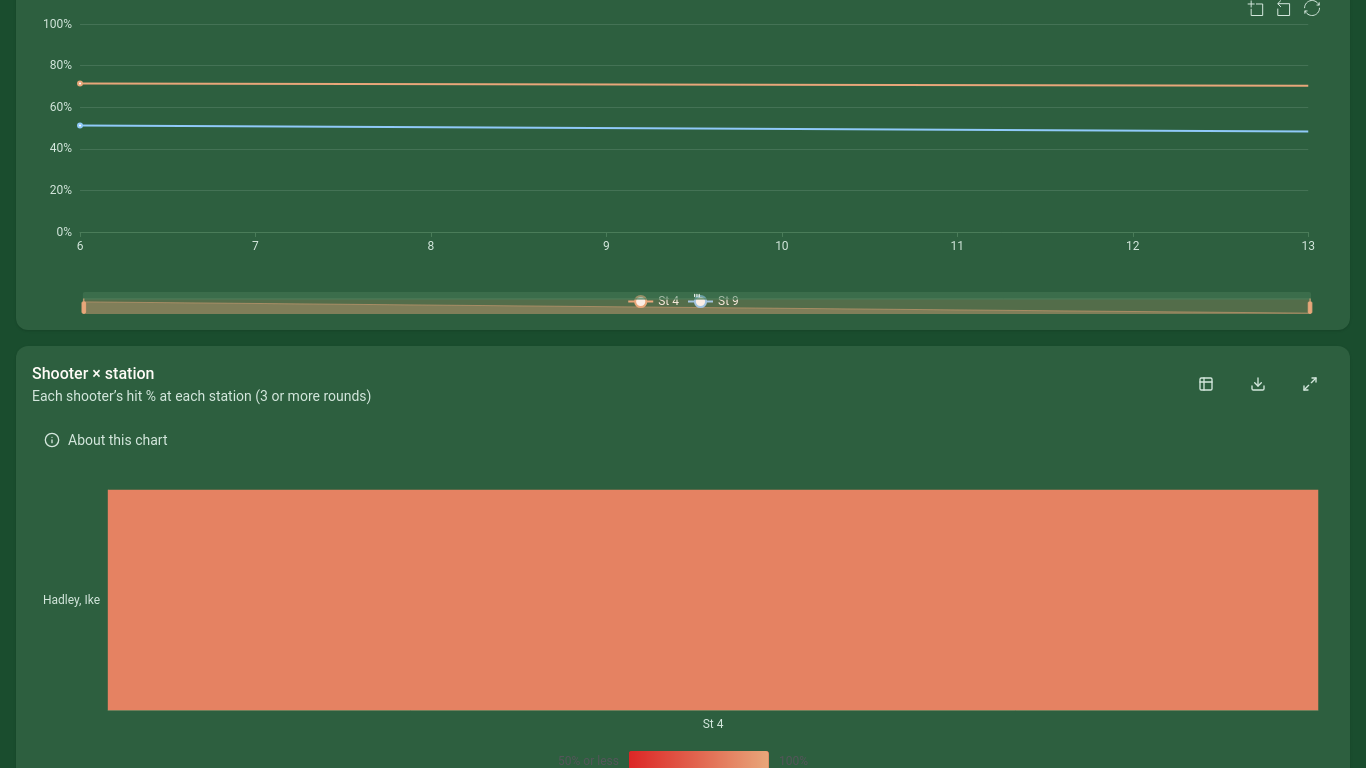
StationsPage › keeps the heatmap table honest about squares with under 3 rounds
(page scrolled)
Click the button named "Table".
click(1206, 384)  # box [1182,362,1230,406]
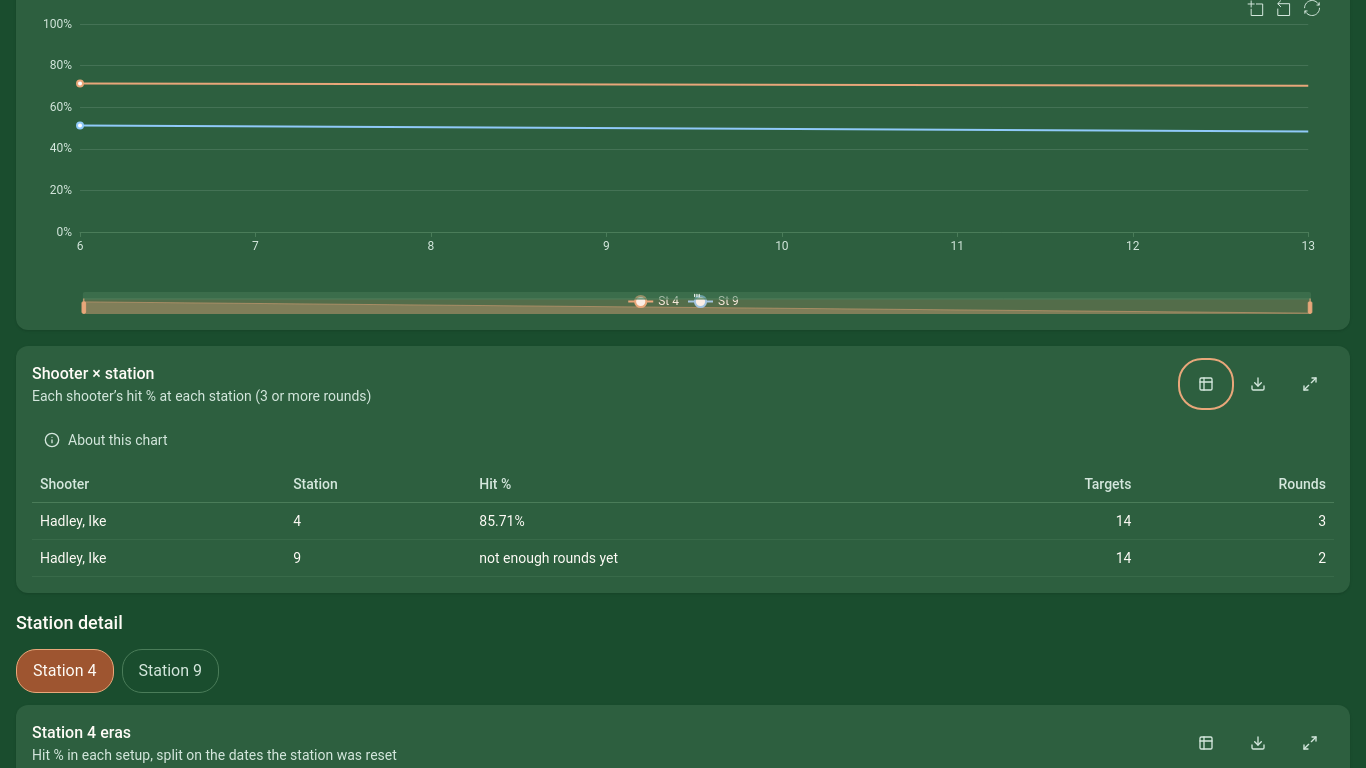
Expected: the row "Hadley, Ike 9 not enough rounds yet 14 2" does not show "50", [32,540,1334,576]
Expected: the row "Hadley, Ike 4 85.71% 14 3" is shown, [32,503,1334,540]
Expected: the row "Hadley, Ike 9 not enough rounds yet 14 2" is shown, [32,540,1334,576]
